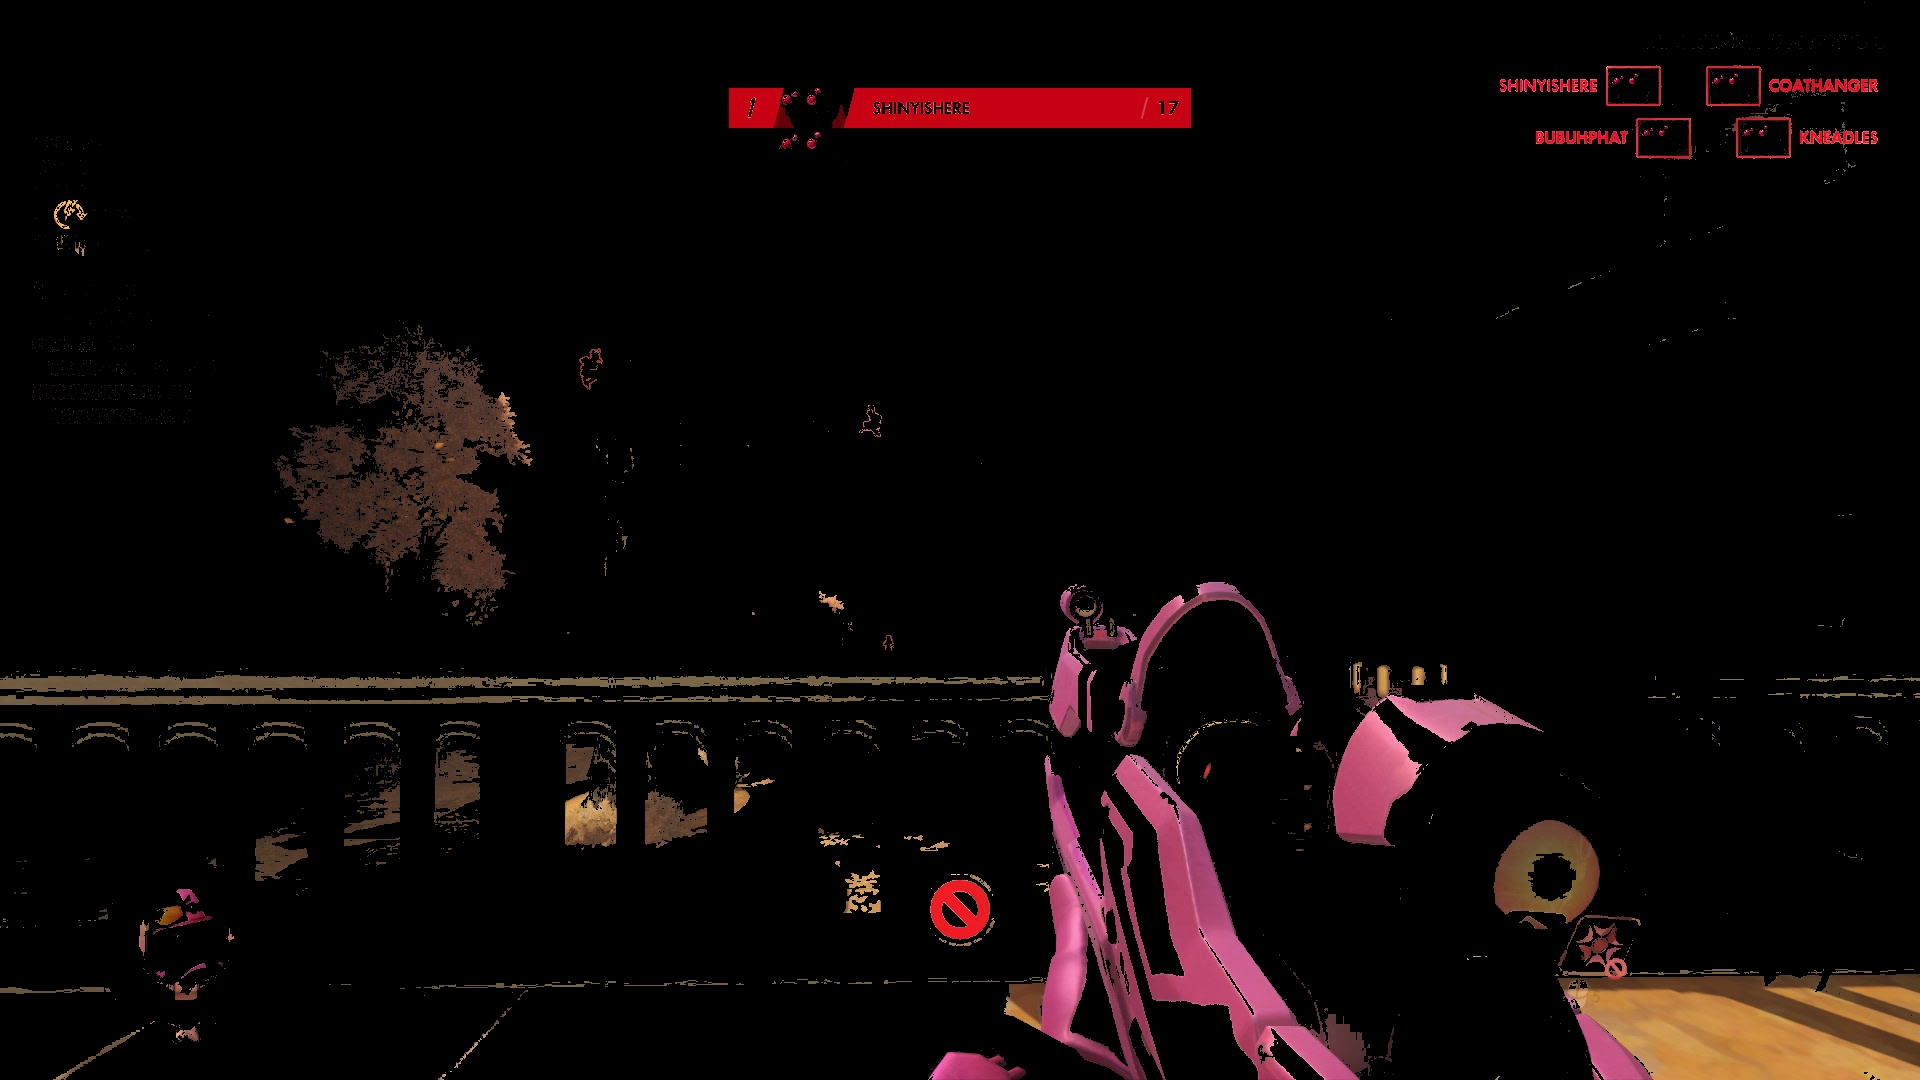widowmaker: (579, 349, 605, 390), (861, 404, 885, 438), (884, 636, 895, 653)
